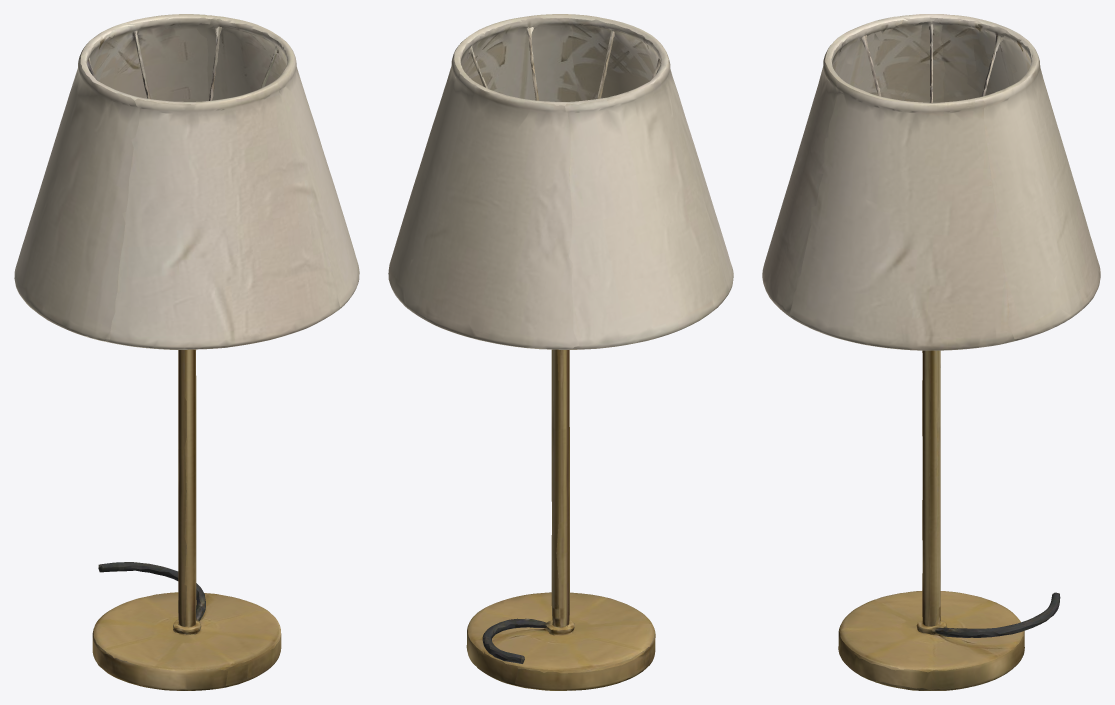
File: table-lamp.glb
The picture shows the model from 3 angles, left to right: view 1: azimuth 30°, elevation 25°; view 2: azimuth 150°, elevation 25°; view 3: azimuth 270°, elevation 25°; orthographic projection.
Visible parts, largest first — view 1: geometry_0; view 2: geometry_0; view 3: geometry_0.
Boxes of the visible parts, bbox=[...] form: geometry_0: bbox=[14, 14, 359, 690]; geometry_0: bbox=[388, 14, 733, 690]; geometry_0: bbox=[762, 14, 1100, 690].
Bounding box in the file's own units: 0.2739 × 0.52 × 0.2688.
1 material, 1 textured.
